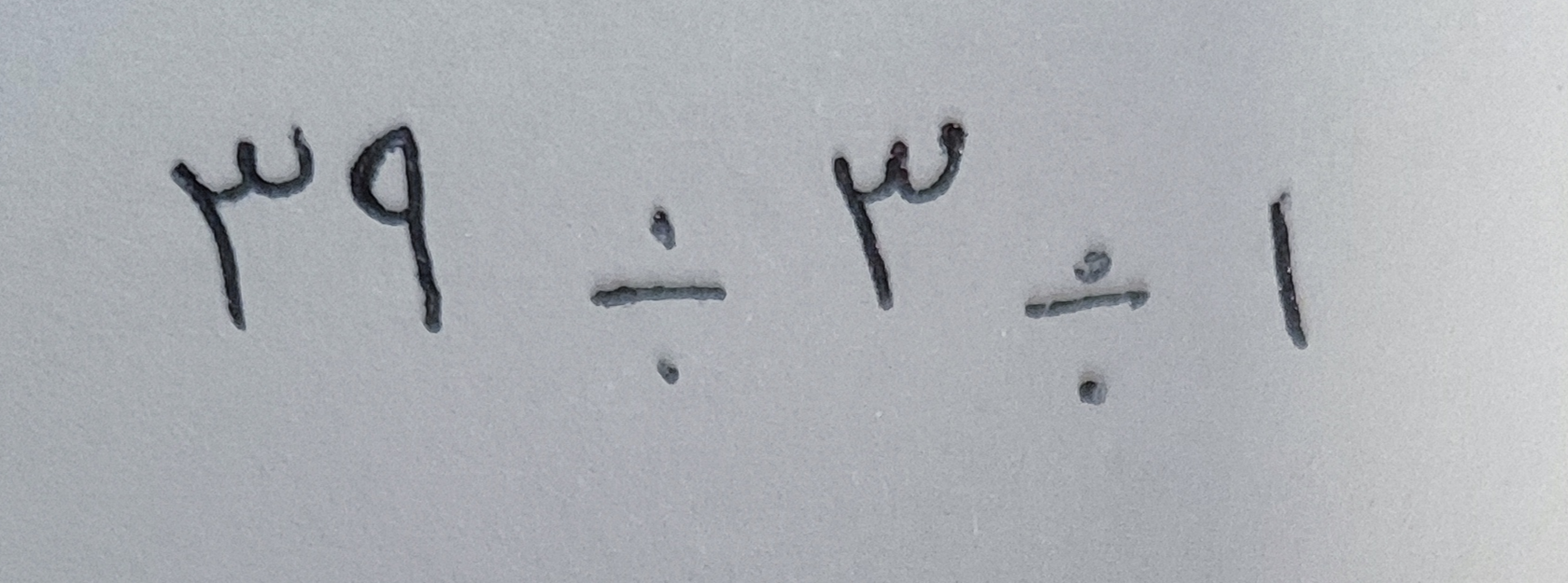character: (784, 102, 980, 317), (152, 108, 320, 346), (546, 199, 750, 394), (1201, 177, 1368, 363), (335, 125, 464, 345), (1003, 238, 1166, 412)
